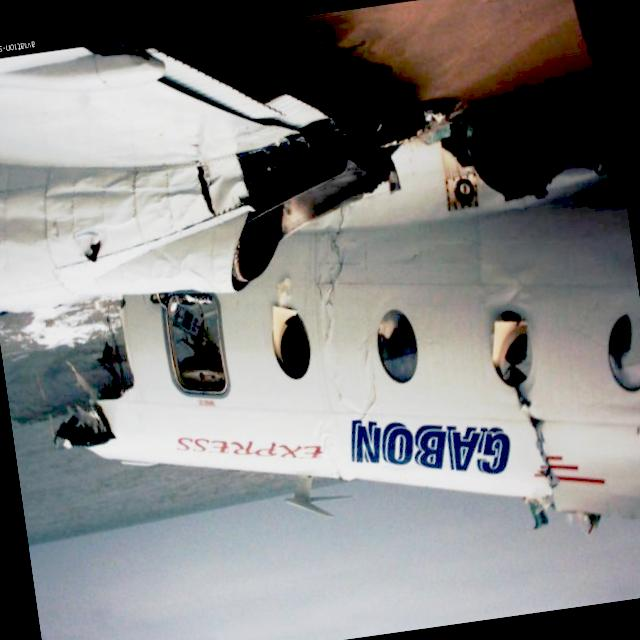crack: (304, 204, 364, 321), (518, 380, 565, 508), (345, 356, 385, 429), (192, 161, 218, 221)
